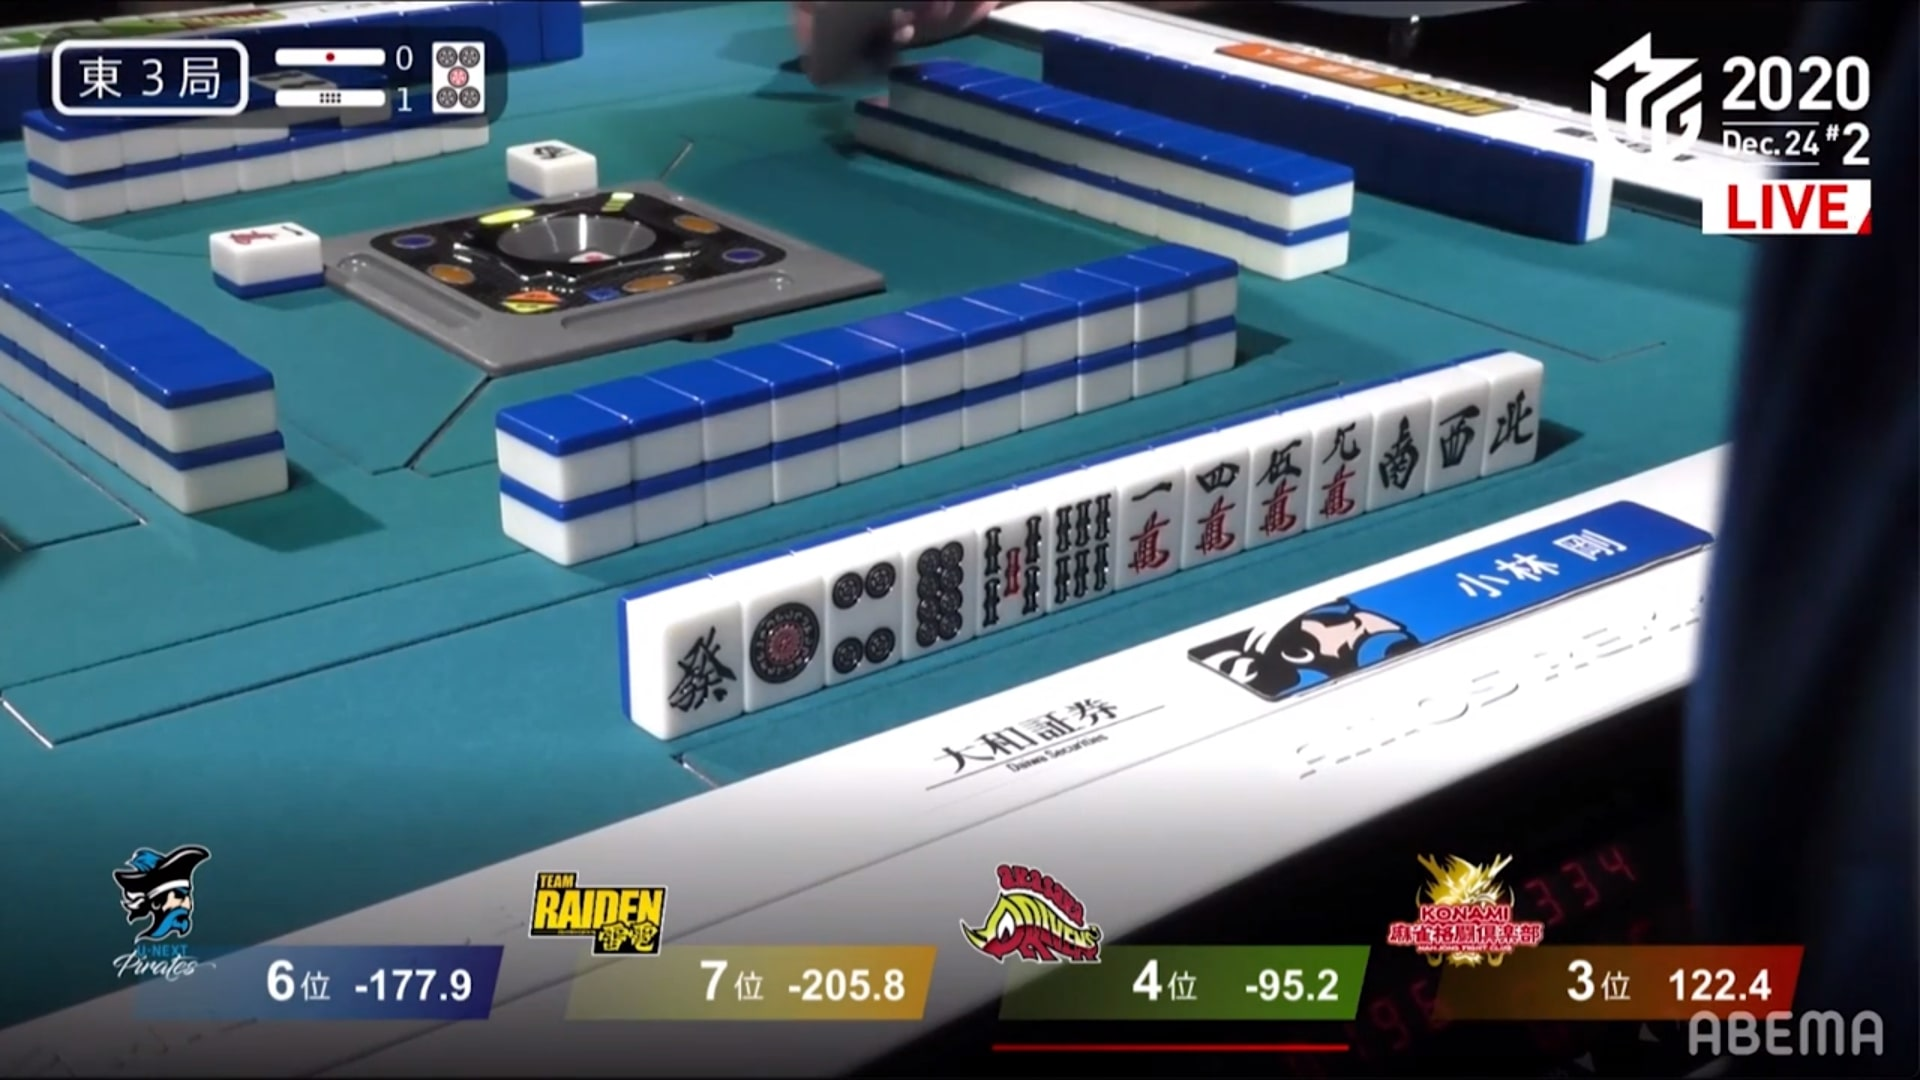1m: (1114, 475, 1178, 587)
1p: (746, 589, 822, 698)
4m: (1180, 459, 1242, 568)
4p: (828, 559, 902, 673)
5m: (1250, 435, 1299, 542)
5s: (981, 509, 1047, 628)
6p: (911, 538, 969, 651)
6s: (1048, 491, 1114, 604)
9m: (1304, 419, 1362, 530)
hand_ton_3: (46, 26, 258, 111)
hatsu: (661, 608, 738, 717)
nan: (1367, 404, 1423, 500)
pei: (1489, 373, 1536, 473)
round_1: (268, 84, 415, 115)
sha: (1433, 386, 1480, 487)
team_pirates: (1188, 574, 1484, 700)
